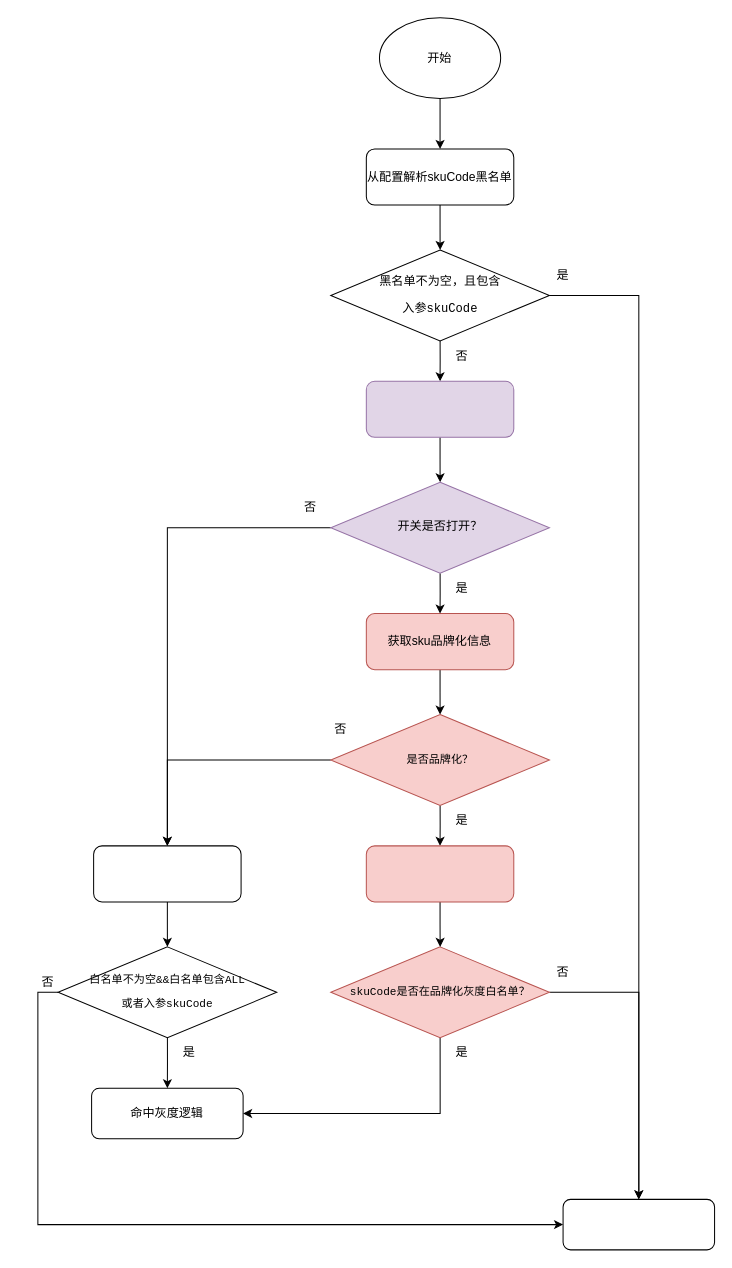
The diagram is 732 pixels wide and 1268 high, and some of its shapes have lost their labels. The shapes that lost their labels are listed below. From the top down, each one's centre as x and y in pixels, then its label:
[439,408]: switch灰度开关
[167,873]: 从配置解析skuCode白名单
[439,873]: 获取Diamond品牌化灰度名单
[638,1224]: 未命中灰度逻辑
